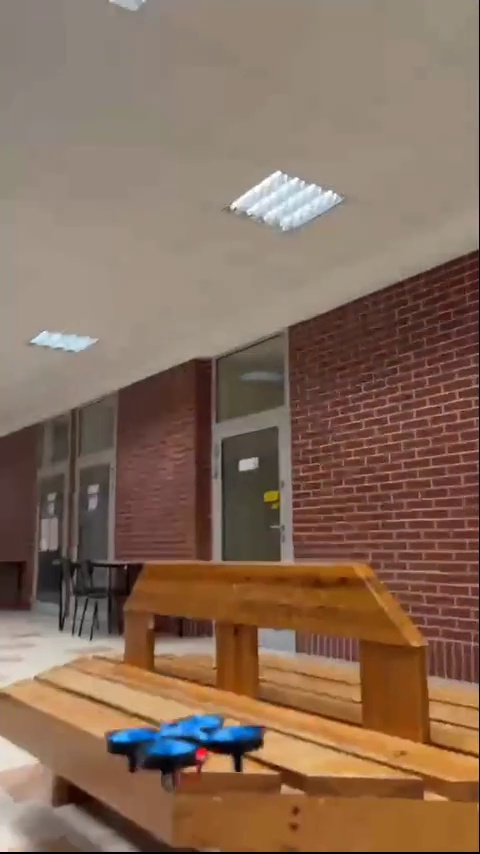drone: (105, 716, 274, 785)
